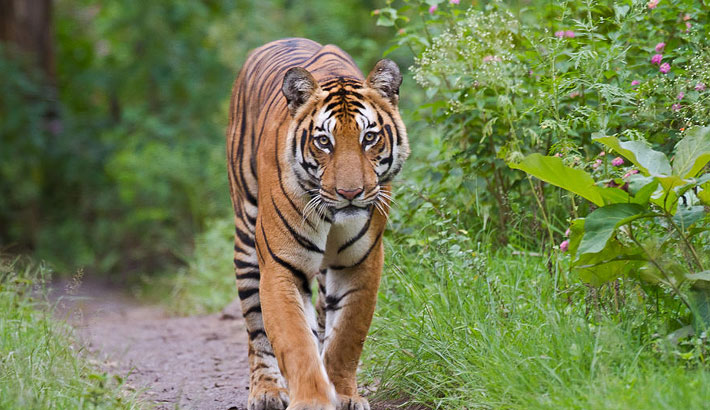Tiger: (221, 41, 431, 410)
